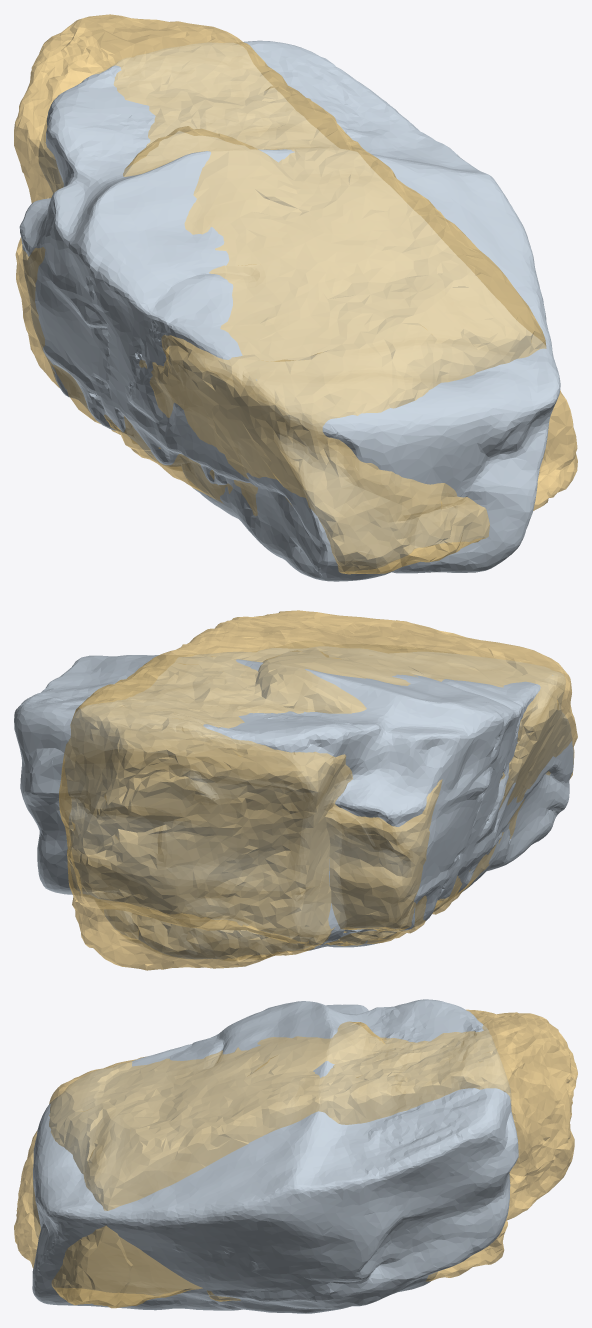
3 renders of one model, top to bottom at view 1: azimuth 30°, elevation 25°; view 2: azimuth 150°, elevation 25°; view 3: azimuth 270°, elevation 25°, orthographic. The views are drawn at different scales.
Visible parts, largest first — view 1: imagination, truth; view 2: imagination, truth; view 3: imagination, truth.
Part boxes in pixels (x1=…): imagination: x1=19, y1=40, x2=560, y2=581; truth: x1=14, y1=14, x2=577, y2=574; imagination: x1=14, y1=641, x2=573, y2=960; truth: x1=59, y1=610, x2=577, y2=970; imagination: x1=32, y1=999, x2=518, y2=1313; truth: x1=14, y1=1009, x2=577, y2=1308.
Size of the model in its own units: 0.8005 by 0.5971 by 1.2.
